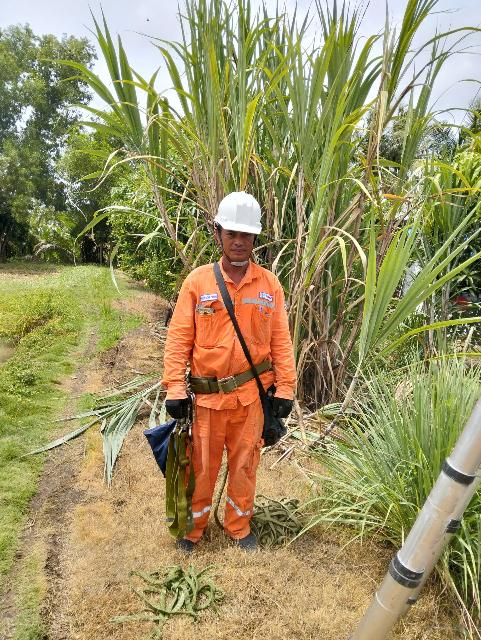gloves: (161, 393, 197, 421), (274, 393, 295, 421)
harness: (184, 358, 282, 404)
helmet: (214, 190, 273, 241)
shoes: (228, 526, 263, 556), (171, 530, 202, 556)
